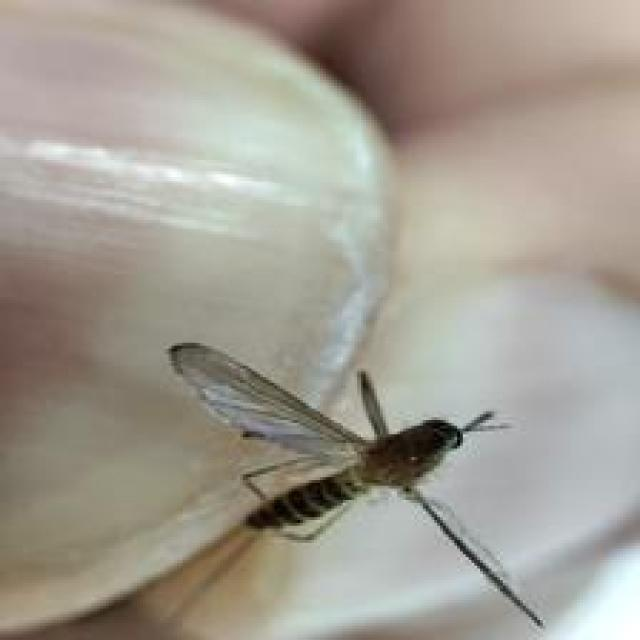Culex: (162, 338, 547, 636)
